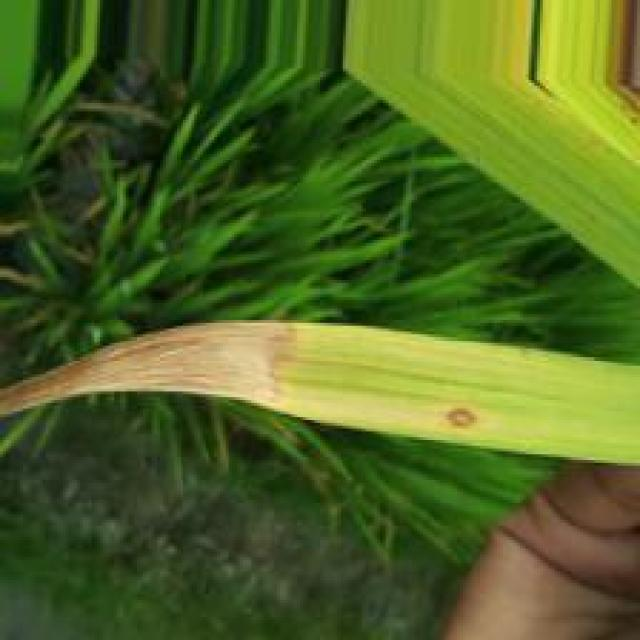Leaf_Scald: (0, 322, 481, 437)
